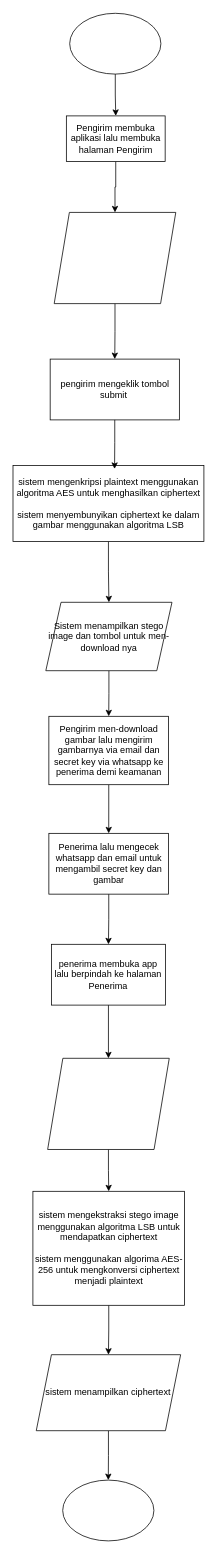
The diagram is 218 pixels wide and 1554 high, and some of its shapes have lost their labels. Here are the shapes that lost their labels. From the top down, the centre of each, then its label:
At point (115, 43): "Start".
At point (114, 258): "Input plain text input image input secret key".
At point (108, 1104): "Input image input secret key".
At point (108, 1510): "End".
